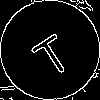T: (25, 25, 76, 80)
